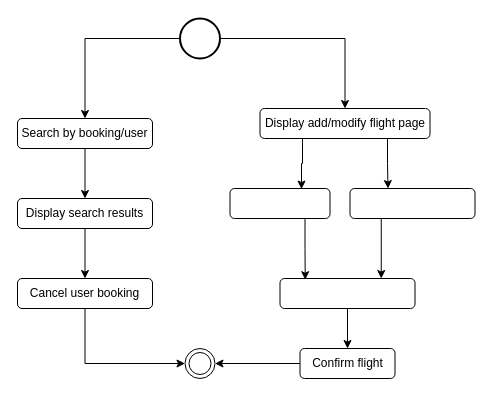
Some shapes in this 493 by 396 pixel diagram are drawn without their labels. Each missing label, with the centre of its shape:
Add new flight: point (279, 203)
Enter flight details: point (347, 293)
Modify existing flight: point (412, 203)
